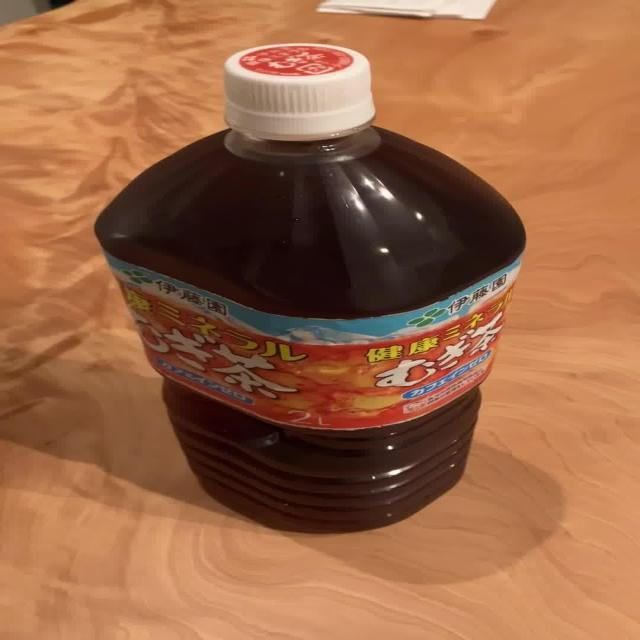good: (89, 39, 534, 536)
